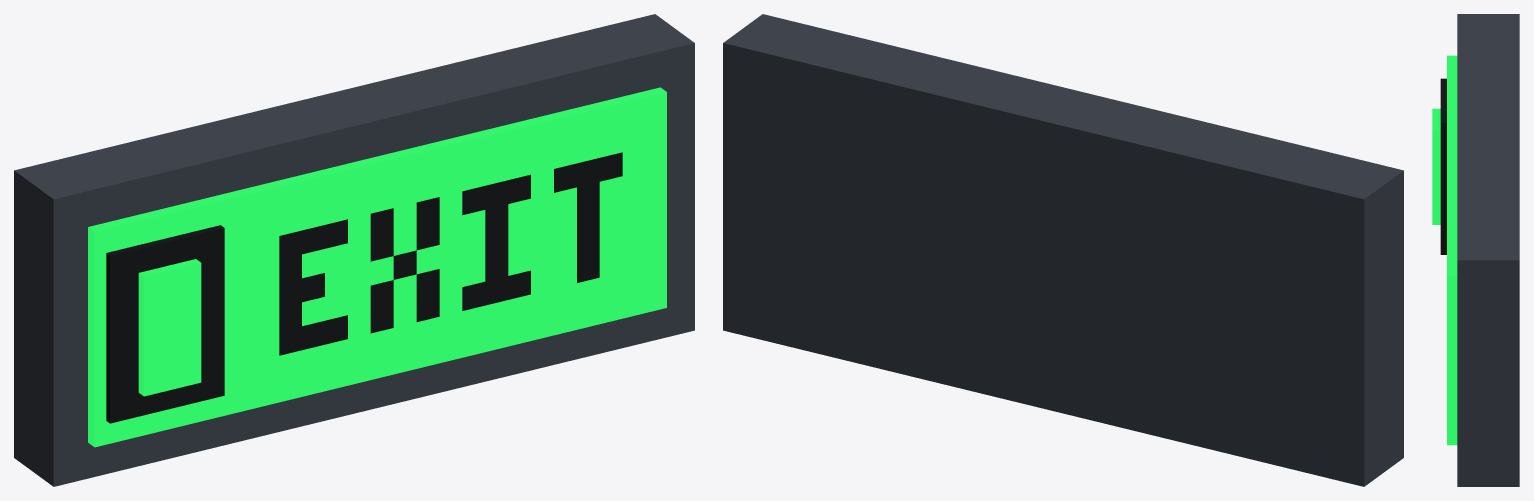
Rendered from sign_emergency_exit.glb.
3 views of the same model, side by side, from view 1: azimuth 30°, elevation 25°; view 2: azimuth 150°, elevation 25°; view 3: azimuth 270°, elevation 25° (orthographic). The views are drawn at different scales.
Visible parts, largest first — view 1: sign_emergency_exit; view 2: sign_emergency_exit; view 3: sign_emergency_exit.
Part boxes in pixels (box(x1,y1,x2,y2)): sign_emergency_exit: box(14, 14, 694, 486); sign_emergency_exit: box(723, 14, 1403, 486); sign_emergency_exit: box(1432, 14, 1519, 486).
Size of the model in its own units: 0.56 by 0.24 by 0.084.
